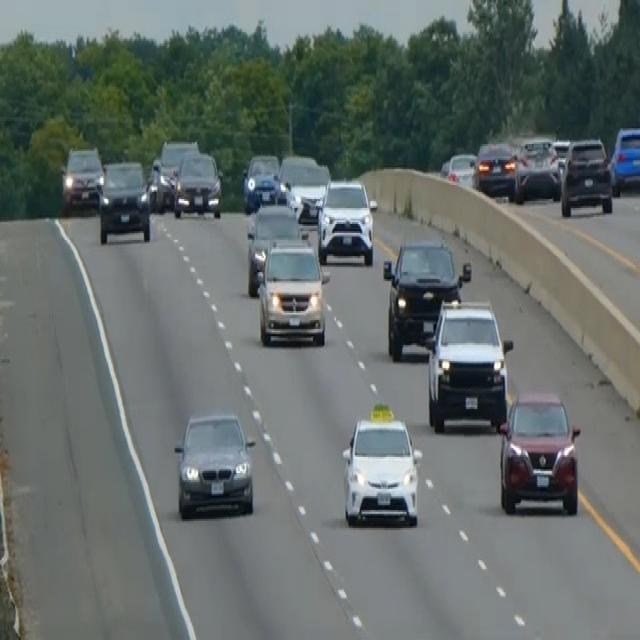car: (381, 236, 471, 361), (497, 388, 581, 516), (341, 400, 422, 528), (173, 409, 256, 519), (245, 199, 307, 295), (316, 176, 377, 265), (98, 156, 151, 244), (560, 135, 613, 217), (172, 149, 222, 219), (151, 137, 199, 208), (513, 135, 561, 203), (61, 142, 104, 212), (288, 162, 331, 224), (473, 139, 517, 197), (241, 151, 282, 210), (610, 122, 639, 196), (277, 151, 317, 190), (146, 156, 173, 212), (441, 150, 477, 188)
jeep: (423, 295, 513, 434)
minivan: (256, 236, 330, 348)
